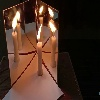fire: (37, 22, 42, 44)
